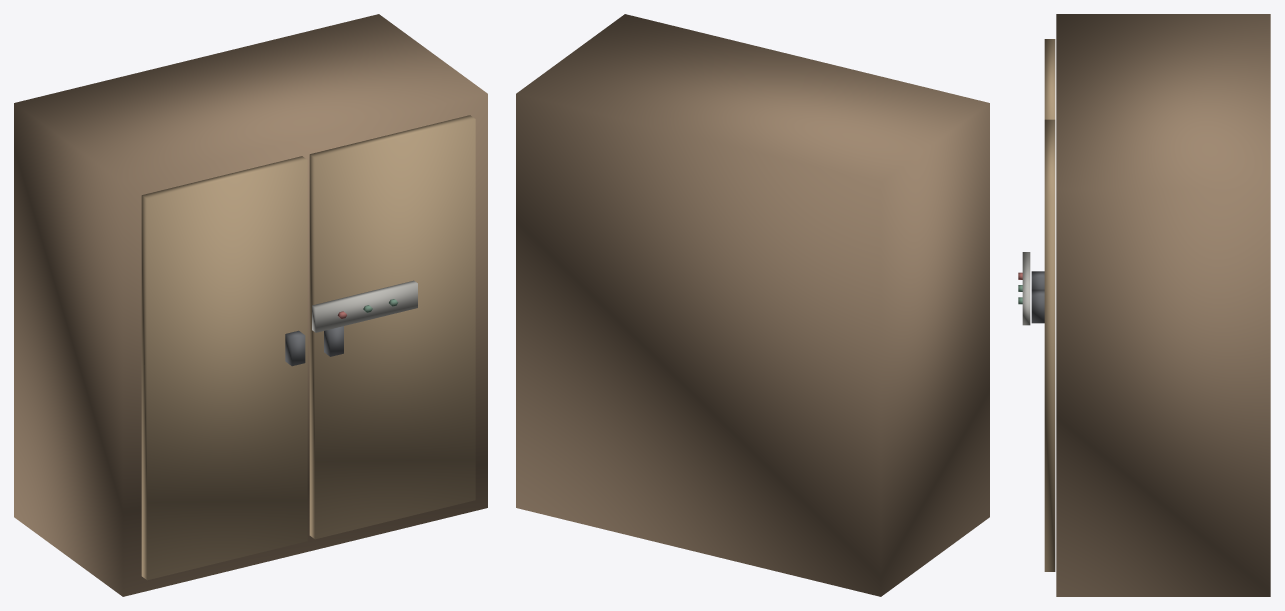
The model's file is map_cabinet__squat.glb.
3 views of the same model, side by side, from view 1: azimuth 30°, elevation 25°; view 2: azimuth 150°, elevation 25°; view 3: azimuth 270°, elevation 25° (orthographic).
Visible parts, largest first — view 1: world; view 2: world; view 3: world.
Boxes of the visible parts, bbox=[...] form: world: bbox=[14, 14, 487, 596]; world: bbox=[516, 14, 989, 596]; world: bbox=[1018, 14, 1270, 596].
Size of the model in its own units: 1.04 by 1.13 by 0.6356.
